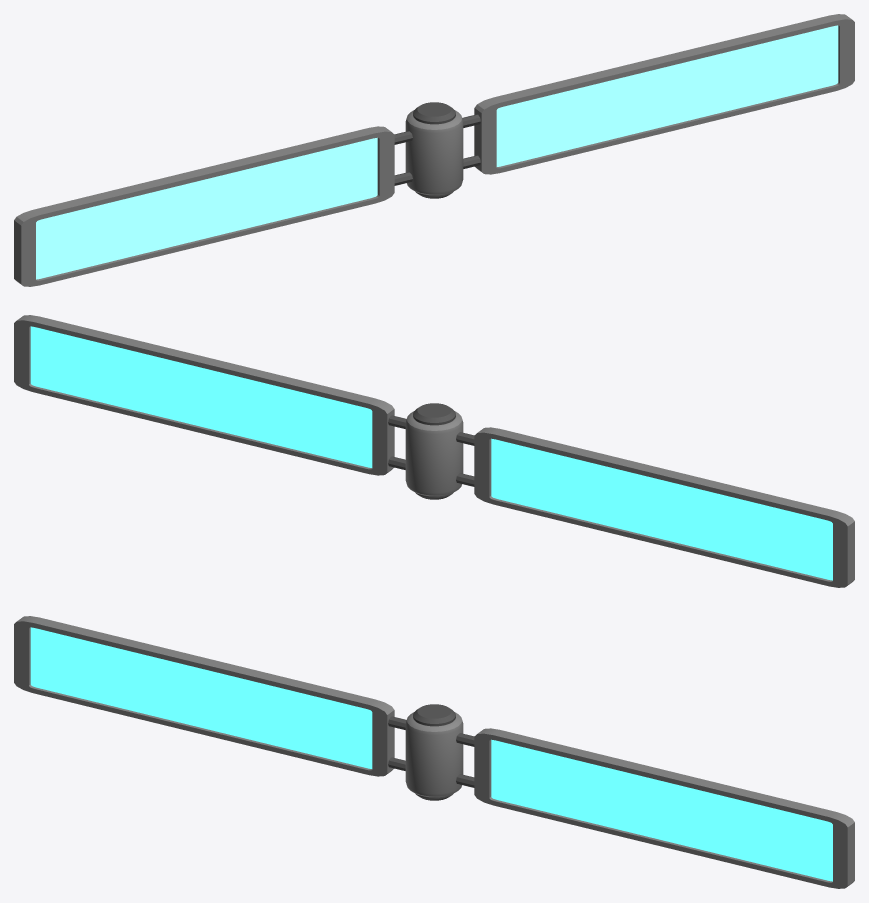
The model's file is Propeller.fbx.
3 renders of one model, top to bottom at view 1: azimuth 30°, elevation 25°; view 2: azimuth 150°, elevation 25°; view 3: azimuth 330°, elevation 25°, orthographic.
Parts seen in each view (by area): view 1: Propeller; view 2: Propeller; view 3: Propeller.
Boxes of the visible parts, left/top/right/bottom form: Propeller: left=14, top=14, right=854, bottom=286; Propeller: left=14, top=315, right=854, bottom=587; Propeller: left=14, top=616, right=854, bottom=888.
Size of the model in its own units: 3350 by 315 by 200.
